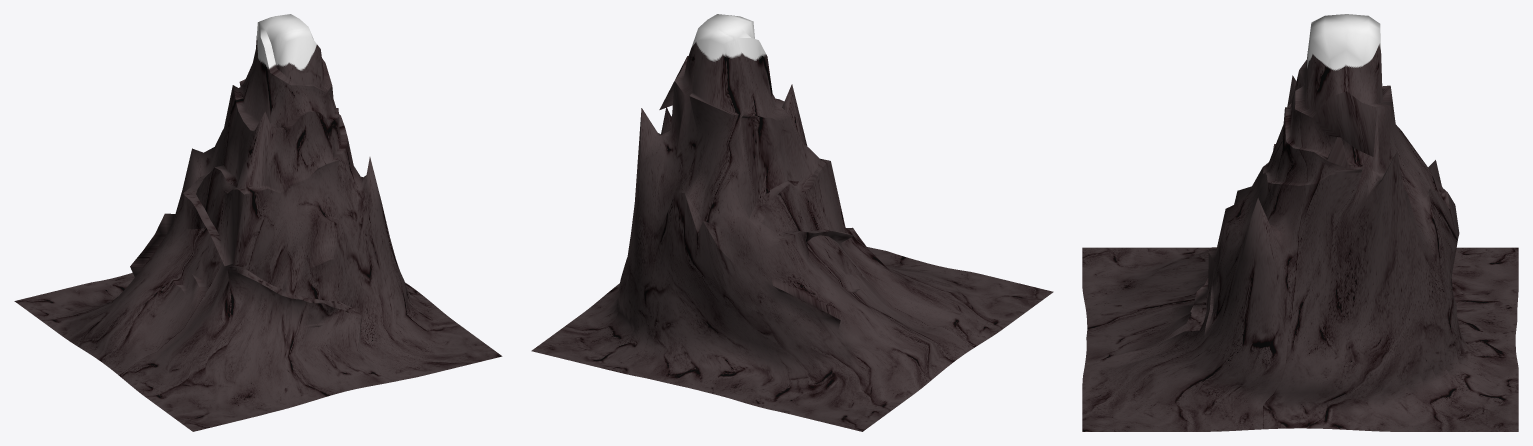
The model's file is Mountain.glb.
3 views of the same model, side by side, from view 1: azimuth 30°, elevation 25°; view 2: azimuth 150°, elevation 25°; view 3: azimuth 270°, elevation 25° (orthographic). The views are drawn at different scales.
Parts seen in each view (by area): view 1: Plane; view 2: Plane; view 3: Plane.
Boxes of the visible parts, bbox=[...] form: Plane: bbox=[14, 14, 502, 431]; Plane: bbox=[531, 14, 1053, 431]; Plane: bbox=[1082, 14, 1518, 431].
Size of the model in its own units: 200 by 175 by 200.
1 material, 1 textured.
